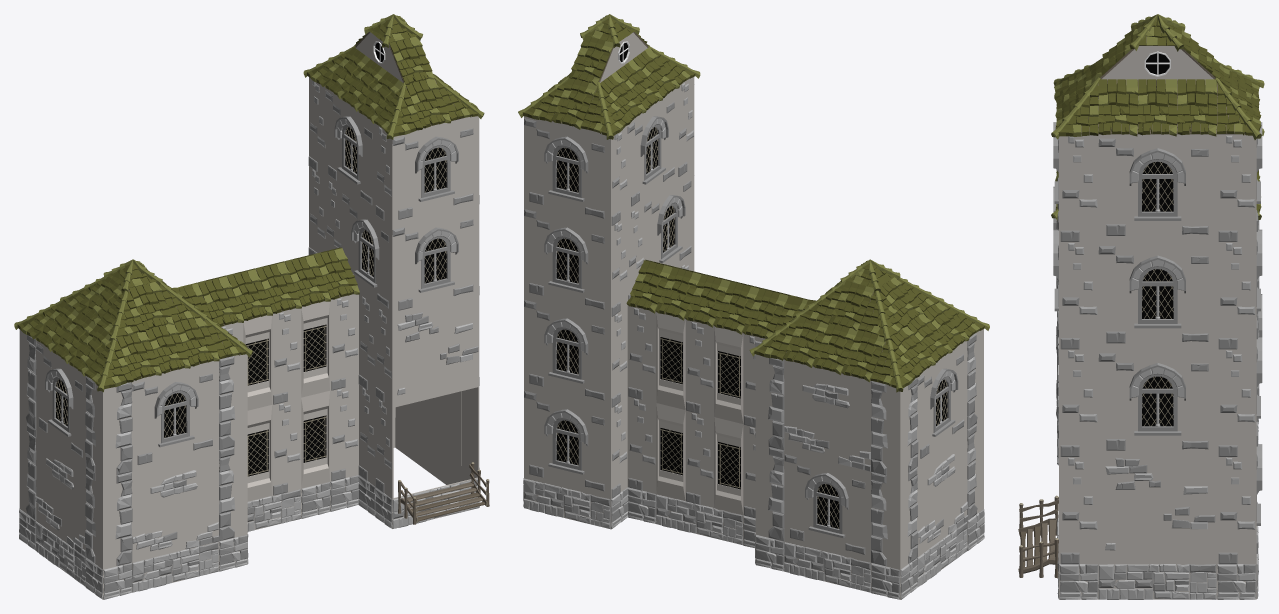
File: HOUSE_11_PARTS.fbx
3 renders of one model, left to right at view 1: azimuth 30°, elevation 25°; view 2: azimuth 150°, elevation 25°; view 3: azimuth 270°, elevation 25°, orthographic. The views are drawn at different scales.
Parts seen in each view (by area): view 1: WALL_01_2, WINDOW_03_18, WALL_03_4, WINDOW_03_19, WINDOW_03_17, WINDOW_03_21, WALL_03_2, WINDOW_03_27, WINDOW_03_20, WALL_06_10, WALL_06_6, WALL_07_2 (+62 smaller); view 2: WINDOW_03_26, WALL_03_3, WINDOW_03_25, WINDOW_03_23, WINDOW_03_24, WINDOW_03_22, WALL_03_2, WINDOW_03_21, WINDOW_03_27, WINDOW_03_20, WALL_06_16, WALL_05_7 (+57 smaller); view 3: WALL_01_3, WINDOW_03_29, WINDOW_03_28, WINDOW_03_30, FOUNDATION_03_9, WALL_06_25, WALL_06_26, WALL_06_29, WALL_06_30, WALL_06_27, WALL_06_36, WALL_06_28 (+25 smaller).
Part boxes in pixels (x1,y1,x2,y2): WALL_01_2: (392, 296, 479, 407); WINDOW_03_18: (392, 205, 479, 316); WALL_03_4: (132, 450, 219, 562); WINDOW_03_19: (392, 116, 479, 225); WINDOW_03_17: (132, 361, 218, 471); WINDOW_03_21: (325, 88, 375, 213); WALL_03_2: (35, 430, 86, 556); WINDOW_03_27: (36, 340, 86, 465); WINDOW_03_20: (342, 190, 394, 316); WALL_06_10: (272, 398, 301, 495); WALL_06_6: (272, 308, 301, 404); WALL_07_2: (102, 472, 132, 569); WINDOW_03_26: (784, 450, 871, 562); WALL_03_3: (784, 360, 871, 471); WINDOW_03_25: (524, 387, 611, 498); WINDOW_03_23: (524, 205, 611, 316); WINDOW_03_24: (524, 296, 610, 407); WINDOW_03_22: (524, 116, 611, 225); WALL_03_2: (917, 430, 968, 556); WINDOW_03_21: (627, 88, 677, 213); WINDOW_03_27: (917, 341, 967, 465); WINDOW_03_20: (644, 165, 694, 267); WALL_06_16: (627, 396, 656, 493); WALL_05_7: (871, 472, 900, 569); WALL_01_3: (1098, 456, 1216, 563); WINDOW_03_29: (1098, 241, 1216, 348); WINDOW_03_28: (1098, 349, 1216, 456); WINDOW_03_30: (1098, 134, 1216, 241); FOUNDATION_03_9: (1098, 563, 1216, 599); WALL_06_25: (1059, 456, 1098, 564); WALL_06_26: (1059, 349, 1098, 456); WALL_06_29: (1059, 241, 1098, 349); WALL_06_30: (1217, 241, 1256, 349); WALL_06_27: (1217, 349, 1256, 456); WALL_06_36: (1217, 134, 1256, 241); WALL_06_28: (1217, 456, 1256, 564).
Size of the model in its own units: 1341 by 1566 by 624.
